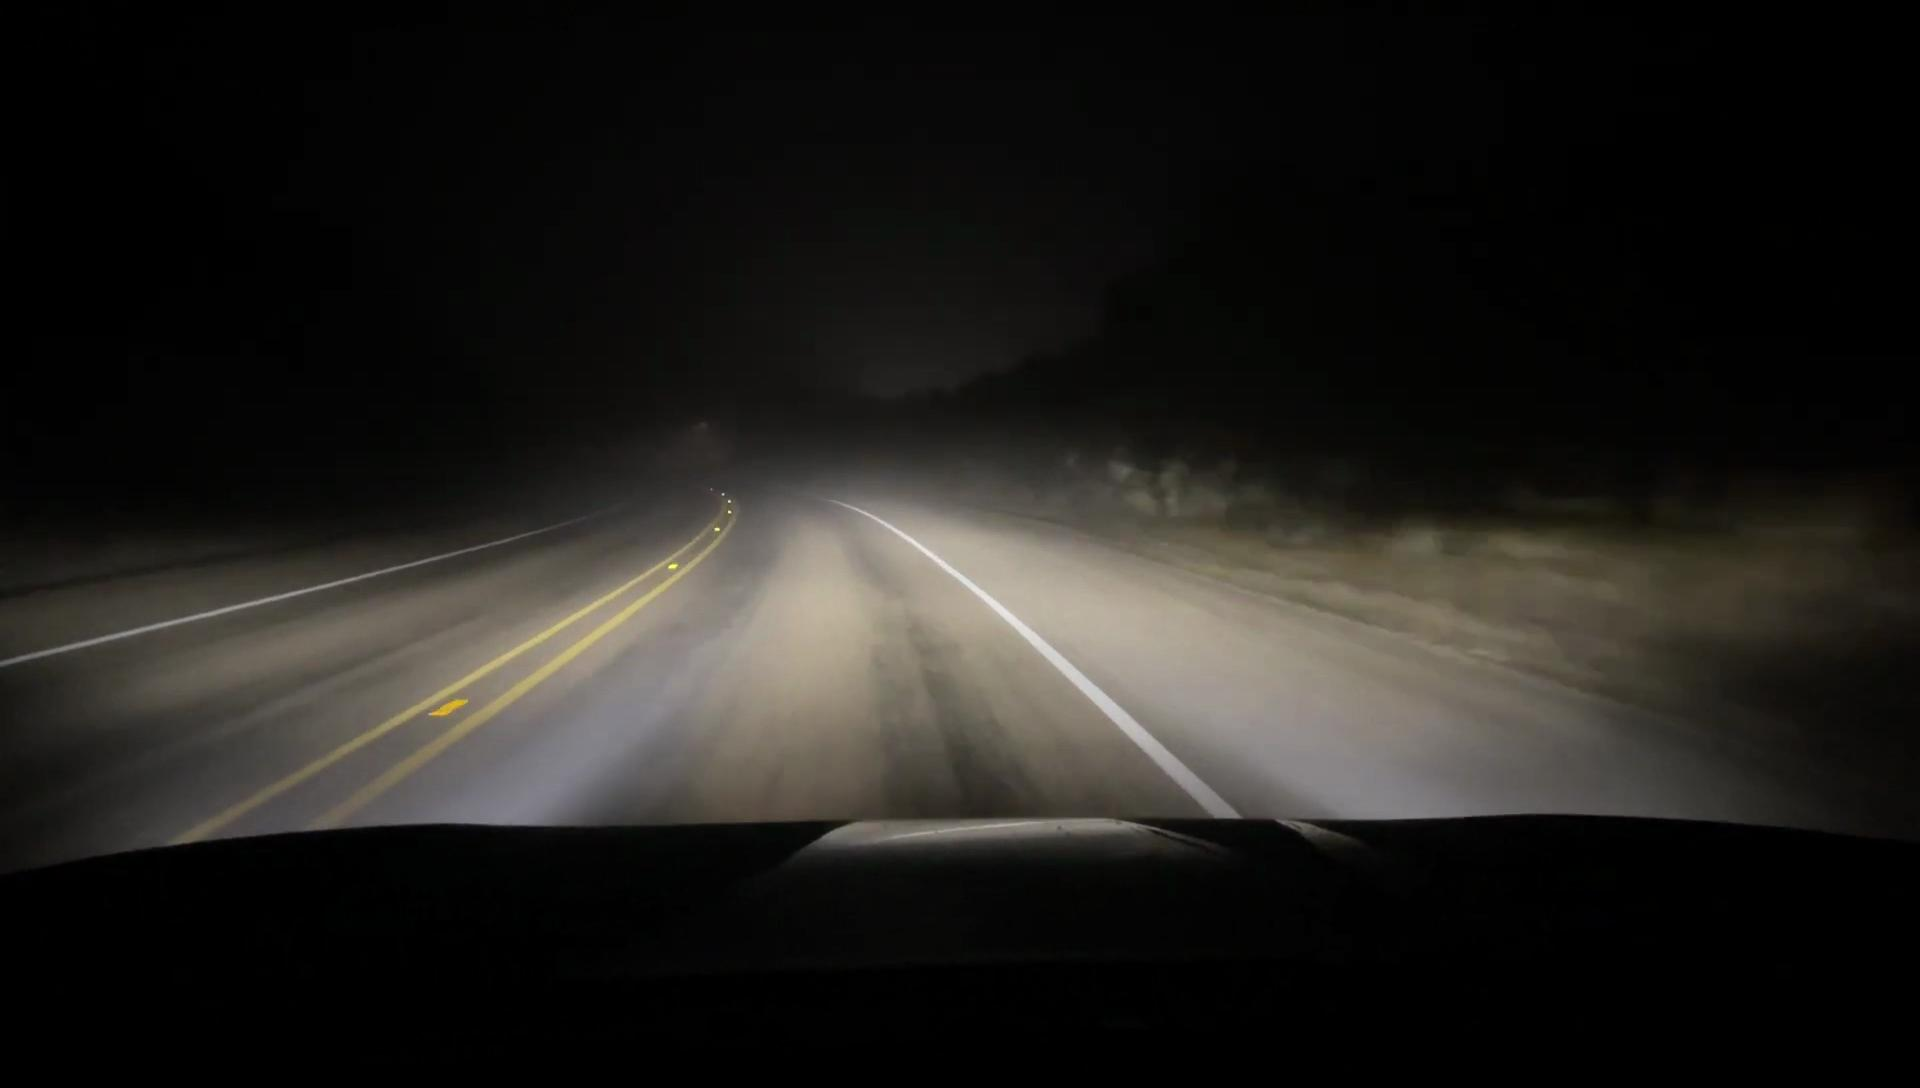road-lanes: (385, 495, 1195, 802)
